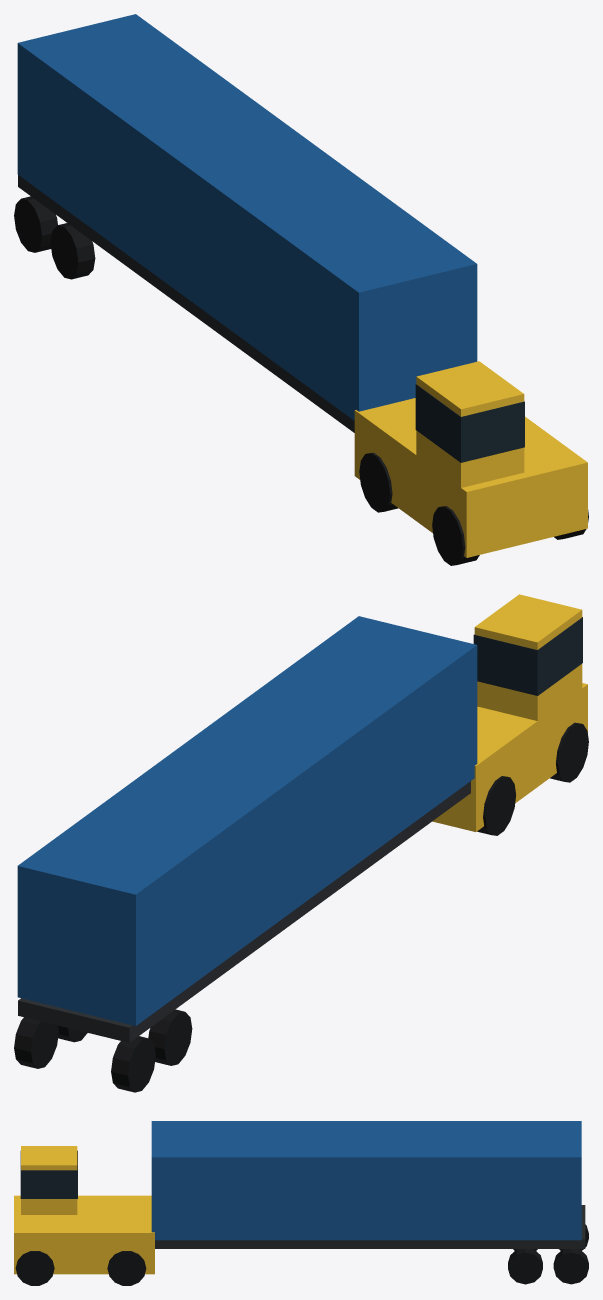
File: terminal_tractor_a.glb
3 renders of one model, top to bottom at view 1: azimuth 30°, elevation 25°; view 2: azimuth 150°, elevation 25°; view 3: azimuth 270°, elevation 25°, orthographic. The views are drawn at different scales.
Parts seen in each view (by area): view 1: tt; view 2: tt; view 3: tt.
Boxes of the visible parts, left/top/right/bottom form: tt: left=14, top=14, right=588, bottom=565; tt: left=14, top=594, right=588, bottom=1092; tt: left=14, top=1121, right=588, bottom=1285.
Bounding box in the file's own units: 2.6 × 3.99 × 16.3.
